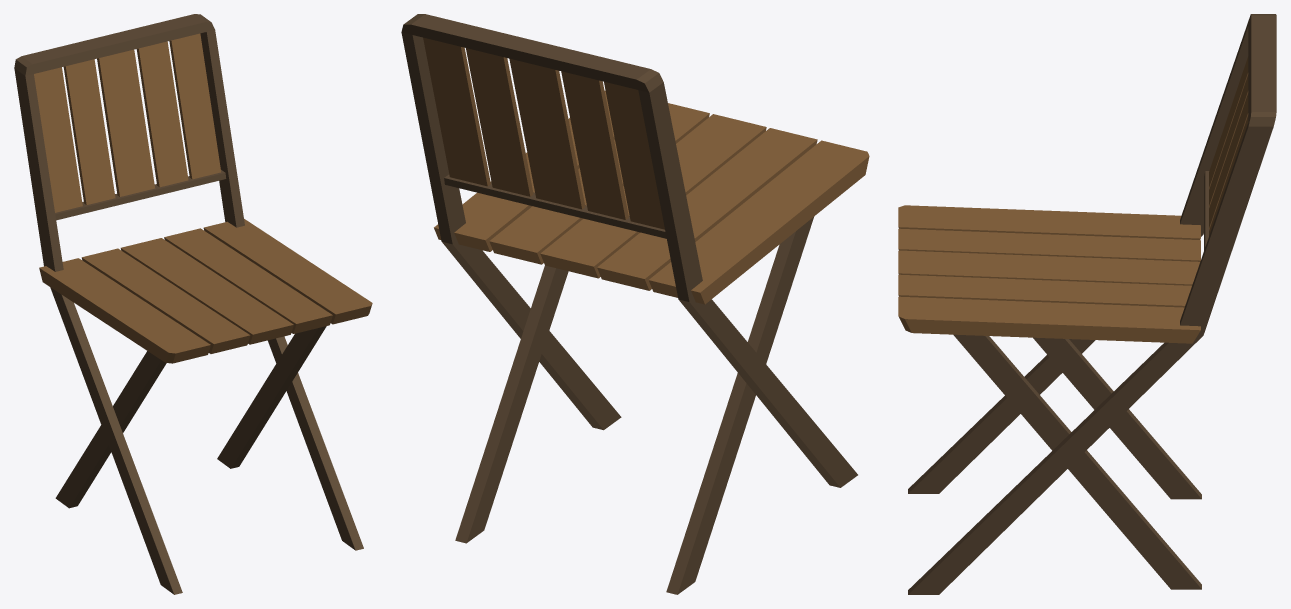
The model's file is chair_1.fbx.
The picture shows the model from 3 angles, left to right: view 1: azimuth 30°, elevation 25°; view 2: azimuth 150°, elevation 25°; view 3: azimuth 270°, elevation 25°; orthographic projection. The views are drawn at different scales.
Parts seen in each view (by area): view 1: chair_1; view 2: chair_1; view 3: chair_1.
Boxes of the visible parts, x1=… form: chair_1: x1=14, y1=14, x2=372, y2=594; chair_1: x1=401, y1=14, x2=869, y2=594; chair_1: x1=898, y1=14, x2=1276, y2=594.
Size of the model in its own units: 46.61 by 91.39 by 65.49.
